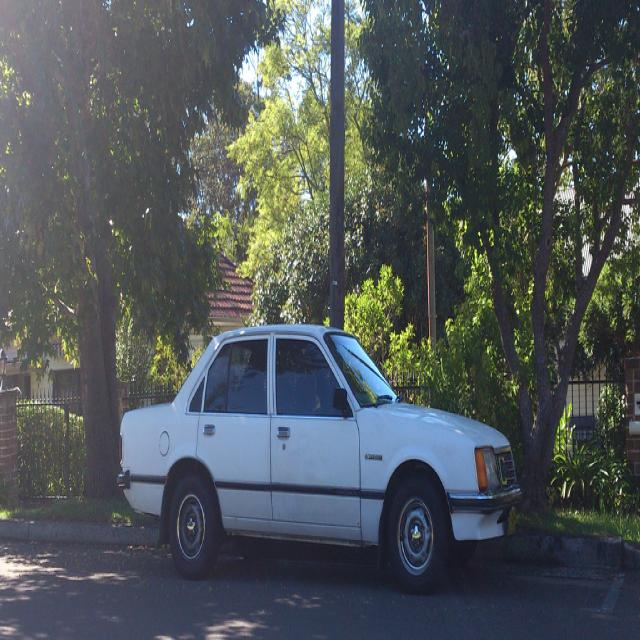car: (114, 317, 520, 593)
